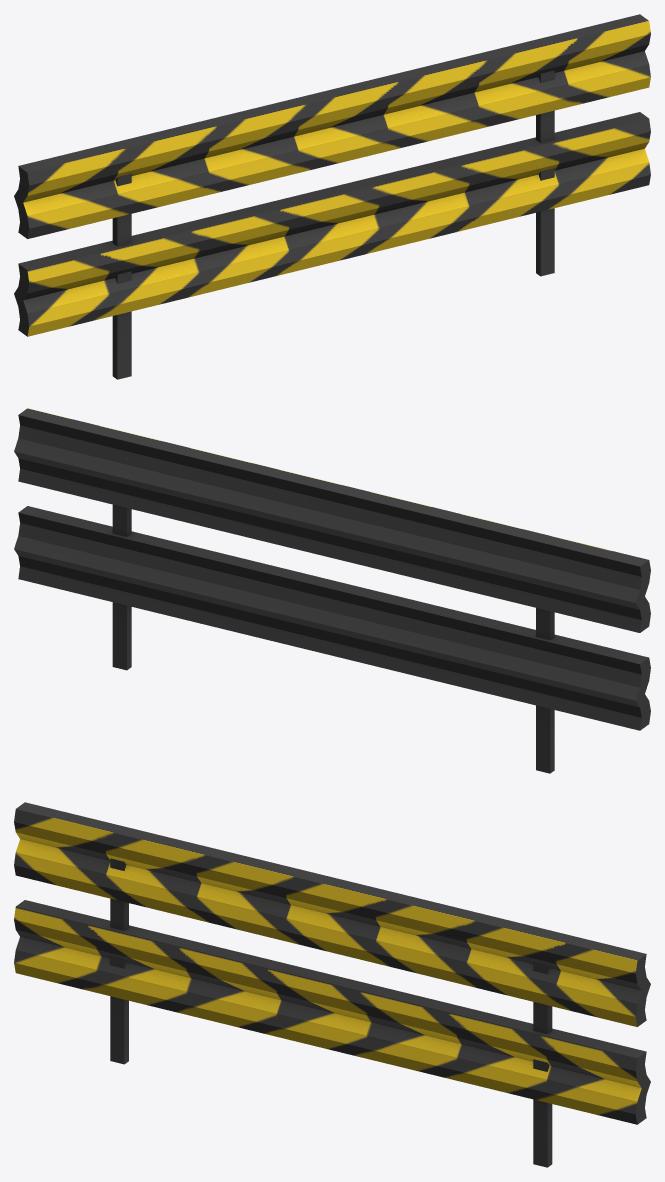
File: FenceRoad 1.fbx
3 views of the same model, one above another, from view 1: azimuth 30°, elevation 25°; view 2: azimuth 150°, elevation 25°; view 3: azimuth 330°, elevation 25° (orthographic).
Parts seen in each view (by area): view 1: Fence:pCube4fence; view 2: Fence:pCube4fence; view 3: Fence:pCube4fence.
Part boxes in pixels (<box>): Fence:pCube4fence: <box>14,14,650,379</box>; Fence:pCube4fence: <box>14,408,650,773</box>; Fence:pCube4fence: <box>14,802,650,1167</box>.
Size of the model in its own units: 2.93 by 1.04 by 0.1248.
